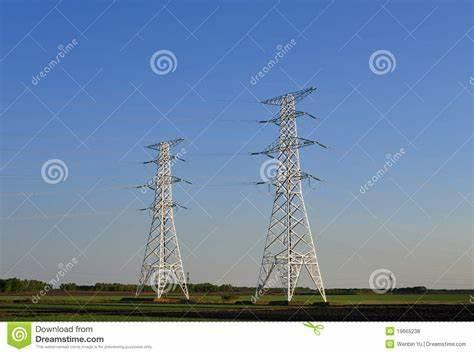power_tower: (244, 85, 334, 307), (131, 133, 207, 305)
